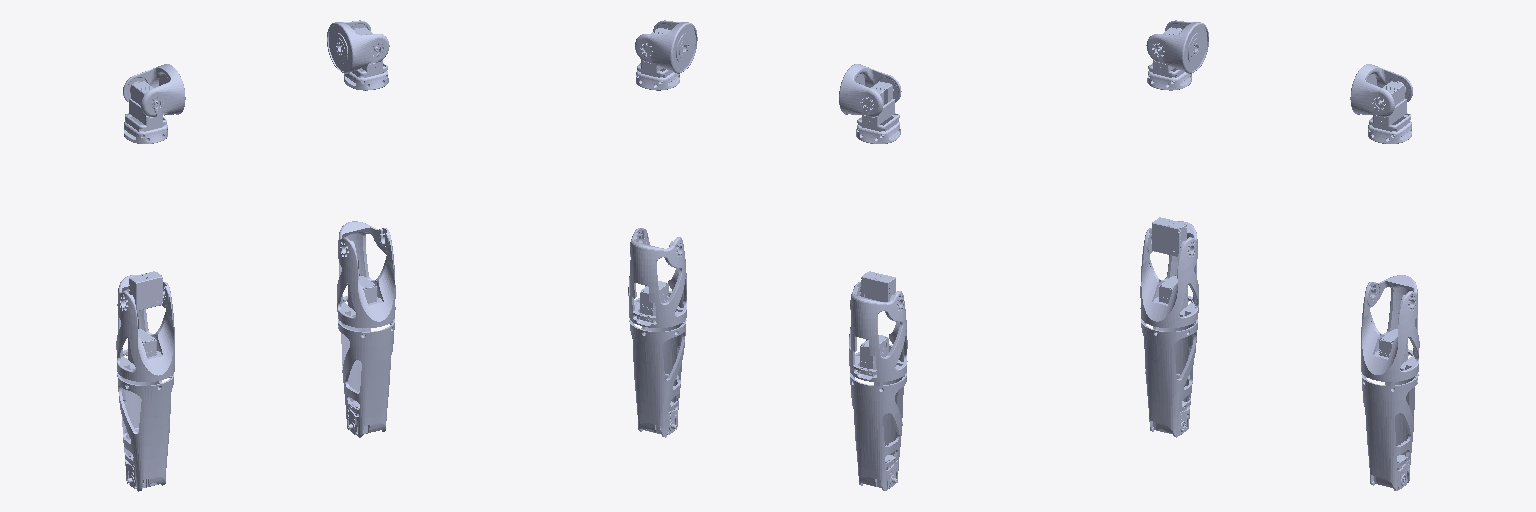
URDF robot description (dual_arm_assembly):
<?xml version="1.0" encoding="utf-8"?>
<!-- This URDF was automatically created by SolidWorks to URDF Exporter! Originally created by Stephen Brawner (brawner@gmail.com) 
     Commit Version: 1.6.0-4-g7f85cfe  Build Version: 1.6.7995.38578
     For more information, please see http://wiki.ros.org/sw_urdf_exporter -->
<robot
  name="dual_arm_assembly">
  <link
    name="base_link">
    <inertial>
      <origin
        xyz="-1.28092213994707E-06 0.00609777903606889 0.369397173959147"
        rpy="0 0 0" />
      <mass
        value="1.49976365072553" />
      <inertia
        ixx="0.0135734997497357"
        ixy="5.31986838611652E-09"
        ixz="3.83639233149709E-09"
        iyy="0.0143864698123259"
        iyz="9.65408902167653E-06"
        izz="0.00266061989858204" />
    </inertial>
    <visual>
      <origin
        xyz="0 0 0"
        rpy="0 0 0" />
      <geometry>
        <mesh
          filename="package://dual_arm_assembly/meshes/base_link.STL" />
      </geometry>
      <material
        name="">
        <color
          rgba="0.792156862745098 0.819607843137255 0.933333333333333 1" />
      </material>
    </visual>
    <collision>
      <origin
        xyz="0 0 0"
        rpy="0 0 0" />
      <geometry>
        <mesh
          filename="package://dual_arm_assembly/meshes/base_link.STL" />
      </geometry>
    </collision>
  </link>
  <link
    name="l1">
    <inertial>
      <origin
        xyz="0.0150351690806023 0.000481126948851307 -0.00308908066790092"
        rpy="0 0 0" />
      <mass
        value="0.0443846555671394" />
      <inertia
        ixx="2.82901831353068E-05"
        ixy="-1.93747516749605E-08"
        ixz="2.40514073453628E-08"
        iyy="1.69848163810373E-05"
        iyz="4.02478008254976E-08"
        izz="2.82933307799255E-05" />
    </inertial>
    <visual>
      <origin
        xyz="0 0 0"
        rpy="0 0 0" />
      <geometry>
        <mesh
          filename="package://dual_arm_assembly/meshes/l1.STL" />
      </geometry>
      <material
        name="">
        <color
          rgba="0.792156862745098 0.819607843137255 0.933333333333333 1" />
      </material>
    </visual>
    <collision>
      <origin
        xyz="0 0 0"
        rpy="0 0 0" />
      <geometry>
        <mesh
          filename="package://dual_arm_assembly/meshes/l1.STL" />
      </geometry>
    </collision>
  </link>
  <joint
    name="j1"
    type="continuous">
    <origin
      xyz="-0.1214 -0.000499999999997739 0.639"
      rpy="3.14159265358979 0 3.14159265358979" />
    <parent
      link="base_link" />
    <child
      link="l1" />
    <axis
      xyz="1 0 0" />
  </joint>
  <link
    name="l2">
    <inertial>
      <origin
        xyz="0.0238194662585542 0.000180375627347268 0.11339965650358"
        rpy="0 0 0" />
      <mass
        value="0.101996071074971" />
      <inertia
        ixx="1.92726611828067E-05"
        ixy="-4.77804452287511E-09"
        ixz="-6.66378858956304E-09"
        iyy="2.04904333733432E-05"
        iyz="-7.36075425749679E-09"
        izz="1.69946057477344E-05" />
    </inertial>
    <visual>
      <origin
        xyz="0 0 0"
        rpy="0 0 0" />
      <geometry>
        <mesh
          filename="package://dual_arm_assembly/meshes/l2.STL" />
      </geometry>
      <material
        name="">
        <color
          rgba="0.792156862745098 0.819607843137255 0.933333333333333 1" />
      </material>
    </visual>
    <collision>
      <origin
        xyz="0 0 0"
        rpy="0 0 0" />
      <geometry>
        <mesh
          filename="package://dual_arm_assembly/meshes/l2.STL" />
      </geometry>
    </collision>
  </link>
  <joint
    name="j2"
    type="continuous">
    <origin
      xyz="0.0398000000001219 0.0239999999999997 0"
      rpy="0 0 -1.5707963267949" />
    <parent
      link="l1" />
    <child
      link="l2" />
    <axis
      xyz="-1 0 0" />
  </joint>
  <link
    name="l3">
    <inertial>
      <origin
        xyz="0.11067117364392 0.000322695181245138 -9.30593643301003E-05"
        rpy="0 0 0" />
      <mass
        value="0.206143258453069" />
      <inertia
        ixx="0.000139538923515496"
        ixy="-3.32874306136751E-05"
        ixz="-5.23617371201476E-08"
        iyy="0.000639054947876115"
        iyz="1.1889768939737E-08"
        izz="0.00067592678018217" />
    </inertial>
    <visual>
      <origin
        xyz="0 0 0"
        rpy="0 0 0" />
      <geometry>
        <mesh
          filename="package://dual_arm_assembly/meshes/l3.STL" />
      </geometry>
      <material
        name="">
        <color
          rgba="0.792156862745098 0.819607843137255 0.933333333333333 1" />
      </material>
    </visual>
    <collision>
      <origin
        xyz="0 0 0"
        rpy="0 0 0" />
      <geometry>
        <mesh
          filename="package://dual_arm_assembly/meshes/l3.STL" />
      </geometry>
    </collision>
  </link>
  <joint
    name="j3"
    type="continuous">
    <origin
      xyz="0.0240000000013496 0 0.0552749999999217"
      rpy="1.5707963267949 -1.5707963267949 0" />
    <parent
      link="l2" />
    <child
      link="l3" />
    <axis
      xyz="1 0 0" />
  </joint>
  <link
    name="l4">
    <inertial>
      <origin
        xyz="0.0207986242136204 0.00693580145723212 -0.0585512260868263"
        rpy="0 0 0" />
      <mass
        value="0.112979486702308" />
      <inertia
        ixx="0.000149384600150202"
        ixy="1.41921966097535E-08"
        ixz="9.737177125781E-09"
        iyy="0.00015118798492705"
        iyz="-1.97706838068614E-05"
        izz="8.72959837563521E-05" />
    </inertial>
    <visual>
      <origin
        xyz="0 0 0"
        rpy="0 0 0" />
      <geometry>
        <mesh
          filename="package://dual_arm_assembly/meshes/l4.STL" />
      </geometry>
      <material
        name="">
        <color
          rgba="0.792156862745098 0.819607843137255 0.933333333333333 1" />
      </material>
    </visual>
    <collision>
      <origin
        xyz="0 0 0"
        rpy="0 0 0" />
      <geometry>
        <mesh
          filename="package://dual_arm_assembly/meshes/l4.STL" />
      </geometry>
    </collision>
  </link>
  <joint
    name="j4"
    type="continuous">
    <origin
      xyz="0.227474999999993 0 -0.0208000000000002"
      rpy="0 -1.5707963267949 0" />
    <parent
      link="l3" />
    <child
      link="l4" />
    <axis
      xyz="-1 0 0" />
  </joint>
  <link
    name="l5">
    <inertial>
      <origin
        xyz="-0.100680924757638 -0.000731071593629609 0.000257019106289585"
        rpy="0 0 0" />
      <mass
        value="0.10878374239052" />
      <inertia
        ixx="5.89342421097784E-05"
        ixy="5.13689272337755E-06"
        ixz="5.61133557582862E-07"
        iyy="0.000156269558725434"
        iyz="-1.03625614787932E-08"
        izz="0.000168920755477569" />
    </inertial>
    <visual>
      <origin
        xyz="0 0 0"
        rpy="0 0 0" />
      <geometry>
        <mesh
          filename="package://dual_arm_assembly/meshes/l5.STL" />
      </geometry>
      <material
        name="">
        <color
          rgba="0.792156862745098 0.819607843137255 0.933333333333333 1" />
      </material>
    </visual>
    <collision>
      <origin
        xyz="0 0 0"
        rpy="0 0 0" />
      <geometry>
        <mesh
          filename="package://dual_arm_assembly/meshes/l5.STL" />
      </geometry>
    </collision>
  </link>
  <joint
    name="j5"
    type="continuous">
    <origin
      xyz="0.020800000000079 0 -0.0967999999999998"
      rpy="3.14159265358979 -1.5707963267949 0" />
    <parent
      link="l4" />
    <child
      link="l5" />
    <axis
      xyz="-1 0 0" />
  </joint>
  <link
    name="l6">
    <inertial>
      <origin
        xyz="0.0150345852639948 0.000485057563577606 0.00308588240789975"
        rpy="0 0 0" />
      <mass
        value="0.0443864747181768" />
      <inertia
        ixx="2.8289937513939E-05"
        ixy="-1.84052361065887E-08"
        ixz="-2.41587146321559E-08"
        iyy="1.69847157626588E-05"
        iyz="-4.56655847061822E-08"
        izz="2.82928254639876E-05" />
    </inertial>
    <visual>
      <origin
        xyz="0 0 0"
        rpy="0 0 0" />
      <geometry>
        <mesh
          filename="package://dual_arm_assembly/meshes/l6.STL" />
      </geometry>
      <material
        name="">
        <color
          rgba="0.792156862745098 0.819607843137255 0.933333333333333 1" />
      </material>
    </visual>
    <collision>
      <origin
        xyz="0 0 0"
        rpy="0 0 0" />
      <geometry>
        <mesh
          filename="package://dual_arm_assembly/meshes/l6.STL" />
      </geometry>
    </collision>
  </link>
  <joint
    name="j6"
    type="continuous">
    <origin
      xyz="0.121399999999999 -0.000499999999993555 0.639"
      rpy="0 0 0" />
    <parent
      link="base_link" />
    <child
      link="l6" />
    <axis
      xyz="-1 0 0" />
  </joint>
  <link
    name="l7">
    <inertial>
      <origin
        xyz="0.0237176204856147 -7.69015637308579E-07 0.023503940680521"
        rpy="0 0 0" />
      <mass
        value="0.0652723782533449" />
      <inertia
        ixx="1.33663348659795E-05"
        ixy="4.780867245139E-09"
        ixz="-6.78239467407023E-09"
        iyy="1.46565513046973E-05"
        iyz="-2.57206628794038E-10"
        izz="1.46041849456996E-05" />
    </inertial>
    <visual>
      <origin
        xyz="0 0 0"
        rpy="0 0 0" />
      <geometry>
        <mesh
          filename="package://dual_arm_assembly/meshes/l7.STL" />
      </geometry>
      <material
        name="">
        <color
          rgba="0.792156862745098 0.819607843137255 0.933333333333333 1" />
      </material>
    </visual>
    <collision>
      <origin
        xyz="0 0 0"
        rpy="0 0 0" />
      <geometry>
        <mesh
          filename="package://dual_arm_assembly/meshes/l7.STL" />
      </geometry>
    </collision>
  </link>
  <joint
    name="j7"
    type="continuous">
    <origin
      xyz="0.0398000000001217 0.024 0"
      rpy="3.14159265358979 0 -1.57079632679489" />
    <parent
      link="l6" />
    <child
      link="l7" />
    <axis
      xyz="1 0 0" />
  </joint>
  <link
    name="l8">
    <inertial>
      <origin
        xyz="0.110672670254806 0.000321596154976521 9.23759636413113E-05"
        rpy="0 0 0" />
      <mass
        value="0.206147019794315" />
      <inertia
        ixx="0.000139509765779231"
        ixy="-3.33046930978046E-05"
        ixz="7.93244177924978E-08"
        iyy="0.000639024953623014"
        iyz="6.25482197721214E-09"
        izz="0.000675923860162885" />
    </inertial>
    <visual>
      <origin
        xyz="0 0 0"
        rpy="0 0 0" />
      <geometry>
        <mesh
          filename="package://dual_arm_assembly/meshes/l8.STL" />
      </geometry>
      <material
        name="">
        <color
          rgba="0.792156862745098 0.819607843137255 0.933333333333333 1" />
      </material>
    </visual>
    <collision>
      <origin
        xyz="0 0 0"
        rpy="0 0 0" />
      <geometry>
        <mesh
          filename="package://dual_arm_assembly/meshes/l8.STL" />
      </geometry>
    </collision>
  </link>
  <joint
    name="j8"
    type="continuous">
    <origin
      xyz="0.0240000000013506 0 0.0552749999999217"
      rpy="1.57079632679489 -1.5707963267949 0" />
    <parent
      link="l7" />
    <child
      link="l8" />
    <axis
      xyz="-1 0 0" />
  </joint>
  <link
    name="l9">
    <inertial>
      <origin
        xyz="0.0208000482942063 0.00692946029447224 0.0585579112235272"
        rpy="0 0 0" />
      <mass
        value="0.112956307628541" />
      <inertia
        ixx="0.000149364092555231"
        ixy="-3.76977752280552E-09"
        ixz="1.46277425536877E-08"
        iyy="0.000151174319842513"
        iyz="1.97724068558359E-05"
        izz="8.72700779780222E-05" />
    </inertial>
    <visual>
      <origin
        xyz="0 0 0"
        rpy="0 0 0" />
      <geometry>
        <mesh
          filename="package://dual_arm_assembly/meshes/l9.STL" />
      </geometry>
      <material
        name="">
        <color
          rgba="0.792156862745098 0.819607843137255 0.933333333333333 1" />
      </material>
    </visual>
    <collision>
      <origin
        xyz="0 0 0"
        rpy="0 0 0" />
      <geometry>
        <mesh
          filename="package://dual_arm_assembly/meshes/l9.STL" />
      </geometry>
    </collision>
  </link>
  <joint
    name="j9"
    type="continuous">
    <origin
      xyz="0.227475 0 0.0207999999999979"
      rpy="0 1.5707963267949 0" />
    <parent
      link="l8" />
    <child
      link="l9" />
    <axis
      xyz="1 0 0" />
  </joint>
  <link
    name="l10">
    <inertial>
      <origin
        xyz="-0.10066377591991 -0.000733332193001175 -0.000261758841464815"
        rpy="0 0 0" />
      <mass
        value="0.108803291665619" />
      <inertia
        ixx="5.89236579528859E-05"
        ixy="5.13775228333602E-06"
        ixz="-5.69727994041848E-07"
        iyy="0.000156259310645811"
        iyz="1.04150768934356E-08"
        izz="0.000168921678122046" />
    </inertial>
    <visual>
      <origin
        xyz="0 0 0"
        rpy="0 0 0" />
      <geometry>
        <mesh
          filename="package://dual_arm_assembly/meshes/l10.STL" />
      </geometry>
      <material
        name="">
        <color
          rgba="0.792156862745098 0.819607843137255 0.933333333333333 1" />
      </material>
    </visual>
    <collision>
      <origin
        xyz="0 0 0"
        rpy="0 0 0" />
      <geometry>
        <mesh
          filename="package://dual_arm_assembly/meshes/l10.STL" />
      </geometry>
    </collision>
  </link>
  <joint
    name="j10"
    type="continuous">
    <origin
      xyz="0.0208000000000785 0 0.0967999999999929"
      rpy="0 1.5707963267949 0" />
    <parent
      link="l9" />
    <child
      link="l10" />
    <axis
      xyz="1 0 0" />
  </joint>
</robot>

--- Render facts (derived) ---
The picture shows the robot from 3 angles, left to right: view 1: azimuth 30°, elevation 25°; view 2: azimuth 150°, elevation 25°; view 3: azimuth 330°, elevation 25°; orthographic projection.
Robot: dual_arm_assembly — 11 links, 10 joints (10 continuous); root link base_link; default pose: every joint at zero.
Visible links, largest first — view 1: l9, l5, l10, l4, l2, l6, l1, l7; view 2: l10, l5, l9, l4, l2, l6, l1, l7; view 3: l5, l9, l10, l4, l1, l2, l6, l7.
Boxes of the visible links, x1,y1,x2,y2 form: l9: (337,221,395,327); l5: (117,373,173,491); l10: (338,319,394,437); l4: (116,275,174,381); l2: (124,81,167,310); l6: (327,20,389,73); l1: (123,64,185,116); l7: (344,27,388,90); l10: (629,320,686,437); l5: (850,373,906,490); l9: (628,228,686,327); l4: (849,282,907,381); l2: (856,81,900,301); l6: (635,20,697,73); l1: (839,64,901,116); l7: (636,28,679,90); l5: (1141,319,1197,437); l9: (1361,275,1419,381); l10: (1361,374,1418,490); l4: (1140,221,1198,327); l1: (1146,20,1208,73); l2: (1147,27,1191,256); l6: (1350,64,1412,116); l7: (1368,81,1411,143).
Size in the robot's own frame: 0.3966 by 0.0828 by 0.5759 metres.
Meshes: 11 distinct files referenced, 8 mesh visuals loaded (8 binary STL); not drawn: 3 (reference not matched to a file when rendering).
